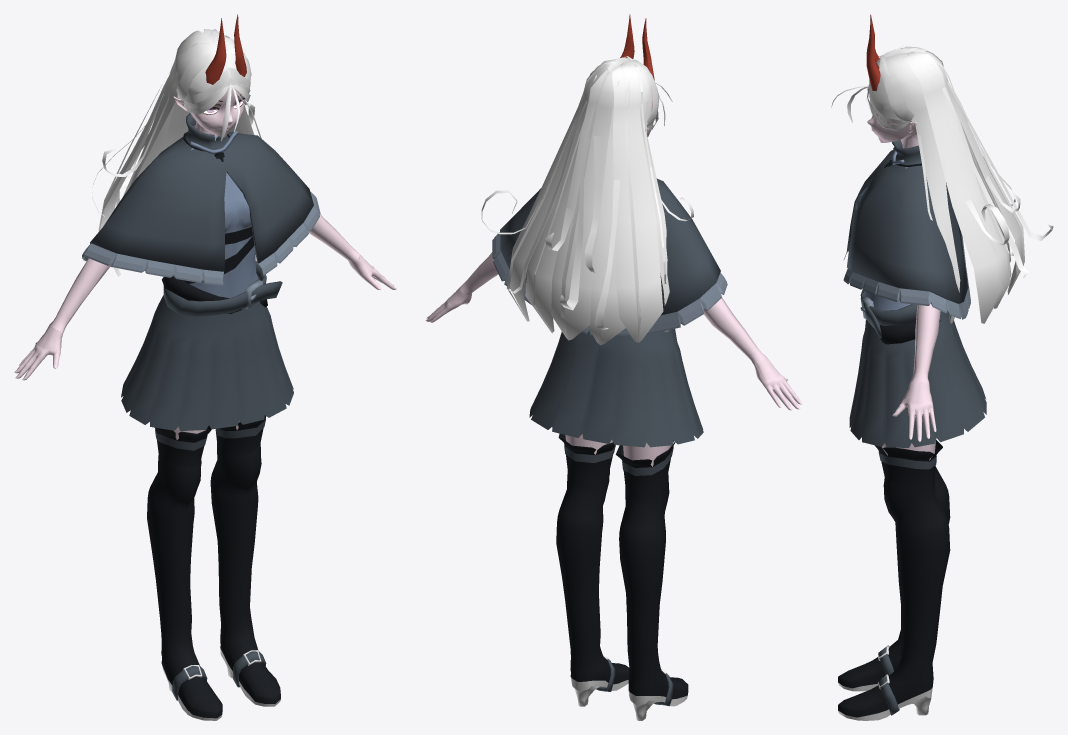
Rendered from vidica_test_model_export.glb.
3 renders of one model, left to right at view 1: azimuth 30°, elevation 25°; view 2: azimuth 150°, elevation 25°; view 3: azimuth 270°, elevation 25°, orthographic.
Parts seen in each view (by area): view 1: Cube.025, Plane.060, Cube.024, Plane.062, shirt.001, body.006, Plane.046, hands.001, Plane.045, Cube.020, face_01.001, Cube.016 (+7 smaller); view 2: Cube.025, Cube.024, Plane.045, Plane.047, Plane.044, Plane.060, body.006, Plane.062, Plane.046, hands.001, Plane.058, Plane.052 (+6 smaller); view 3: Cube.025, Plane.060, Cube.024, Plane.045, Plane.046, Plane.062, body.006, Plane.044, hands.001, Plane.047, Plane.042, Plane.051 (+13 smaller).
Boxes of the visible parts, x1=… form: Cube.025: x1=147, y1=415, x2=280, y2=718; Plane.060: x1=90, y1=113, x2=313, y2=271; Cube.024: x1=121, y1=295, x2=293, y2=430; Plane.062: x1=82, y1=191, x2=320, y2=285; shirt.001: x1=189, y1=125, x2=258, y2=297; body.006: x1=49, y1=214, x2=359, y2=439; Plane.046: x1=113, y1=33, x2=254, y2=276; hands.001: x1=14, y1=253, x2=396, y2=380; Plane.045: x1=98, y1=29, x2=241, y2=231; Cube.020: x1=163, y1=261, x2=266, y2=316; face_01.001: x1=187, y1=87, x2=245, y2=137; Cube.016: x1=205, y1=14, x2=246, y2=84; Cube.025: x1=556, y1=433, x2=688, y2=699; Cube.024: x1=529, y1=329, x2=703, y2=447; Plane.045: x1=509, y1=60, x2=663, y2=342; Plane.047: x1=525, y1=72, x2=630, y2=345; Plane.044: x1=551, y1=70, x2=620, y2=340; Plane.060: x1=500, y1=178, x2=720, y2=315; body.006: x1=460, y1=252, x2=765, y2=466; Plane.062: x1=492, y1=232, x2=727, y2=335; Plane.046: x1=589, y1=57, x2=669, y2=332; hands.001: x1=425, y1=286, x2=802, y2=410; Plane.058: x1=507, y1=61, x2=641, y2=342; Plane.052: x1=559, y1=105, x2=598, y2=310; Cube.025: x1=838, y1=440, x2=950, y2=717; Plane.060: x1=847, y1=140, x2=968, y2=303; Cube.024: x1=849, y1=311, x2=986, y2=447; Plane.045: x1=902, y1=46, x2=1007, y2=323; Plane.046: x1=884, y1=48, x2=960, y2=323; Plane.062: x1=843, y1=232, x2=970, y2=319; body.006: x1=882, y1=303, x2=940, y2=460; Plane.044: x1=925, y1=51, x2=1023, y2=294; hands.001: x1=892, y1=381, x2=936, y2=441; Plane.047: x1=922, y1=68, x2=1011, y2=308; Plane.042: x1=879, y1=52, x2=914, y2=121; Plane.051: x1=942, y1=87, x2=1028, y2=277.
Size of the model in its own units: 0.7708 by 1.33 by 0.3941.
11 materials, 1 textured.
